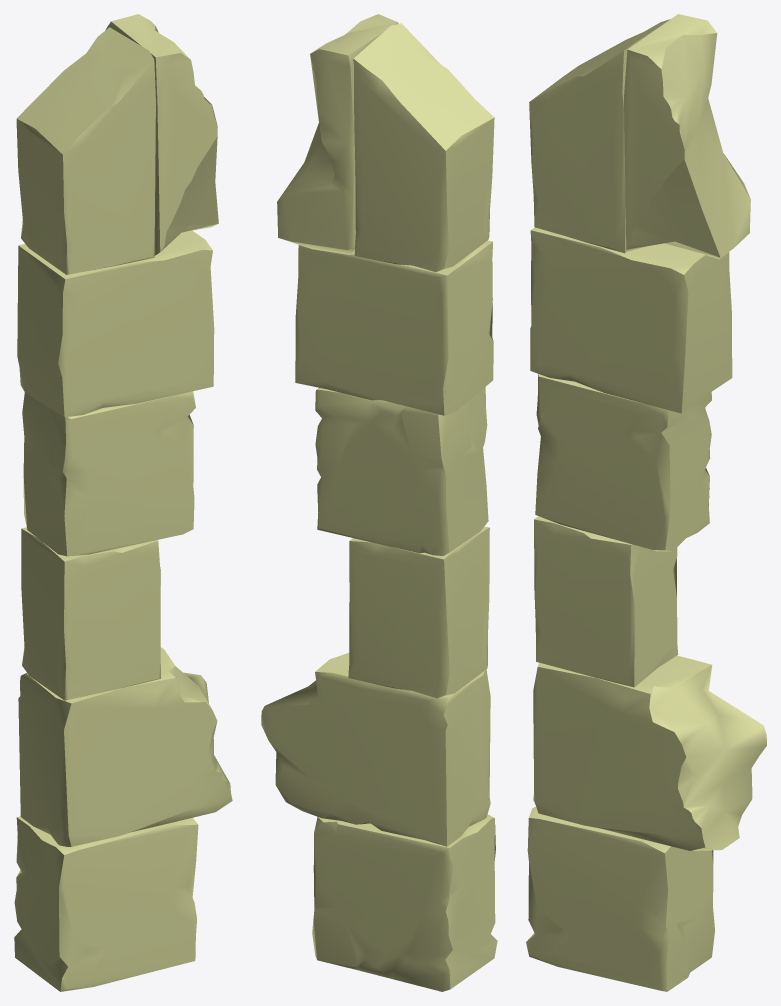
Rendered from stone_element_20_lintel_03.fbx.
3 views of the same model, side by side, from view 1: azimuth 30°, elevation 25°; view 2: azimuth 150°, elevation 25°; view 3: azimuth 330°, elevation 25° (orthographic). The views are drawn at different scales.
Parts seen in each view (by area): view 1: stone_element_20_lintel_03_LOD0; view 2: stone_element_20_lintel_03_LOD0; view 3: stone_element_20_lintel_03_LOD0.
Part boxes in pixels (box(x1,y1,x2,y2)): stone_element_20_lintel_03_LOD0: box(14, 14, 232, 991); stone_element_20_lintel_03_LOD0: box(261, 14, 497, 991); stone_element_20_lintel_03_LOD0: box(526, 14, 766, 991).
Size of what is drawn, in the model's own units: 72.97 by 335 by 35.05.
